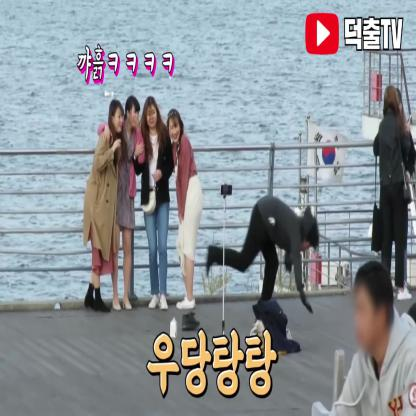Fall_Down: (204, 192, 323, 332)
